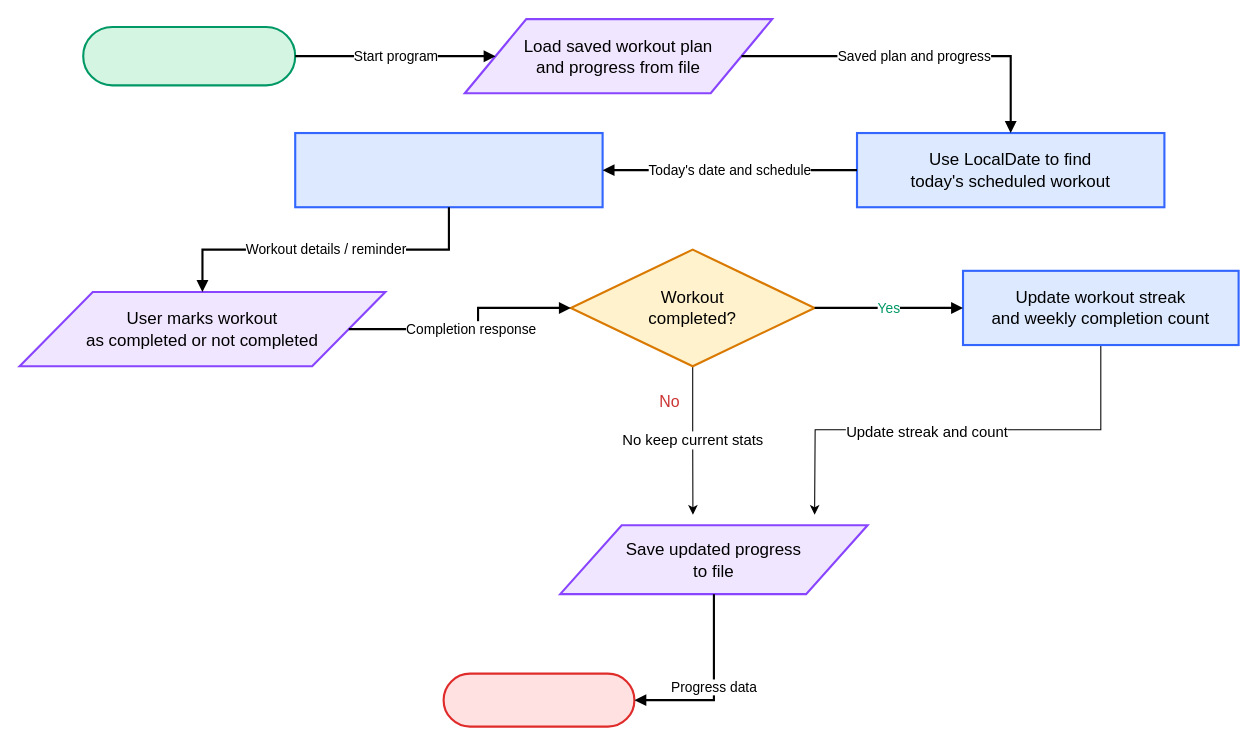
This 1257x746 diagram has some shape labels left out. Each missing label, with the box of its shape:
Display today's workout or rest day and reminder: (294, 131, 603, 208)
End: (442, 672, 635, 727)
Start: main(): (82, 25, 296, 86)
